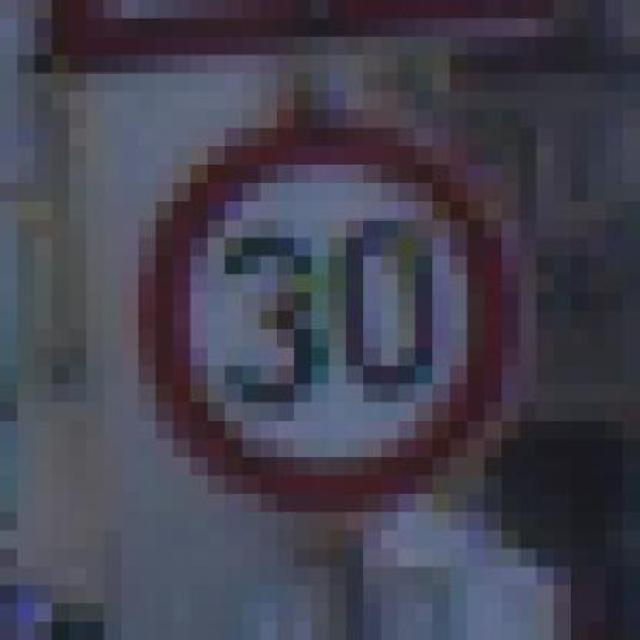Speed Limit 30 KMPh: (120, 91, 572, 548)
